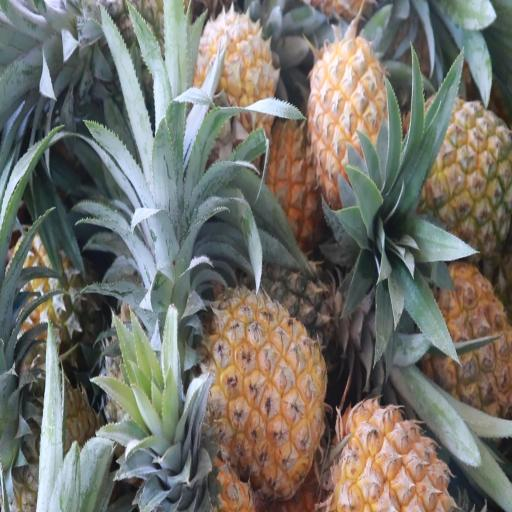Pineapple - v8 v1: (210, 288, 324, 494), (307, 34, 395, 205), (419, 98, 512, 258), (329, 400, 459, 512), (419, 260, 512, 415), (196, 12, 276, 154)
